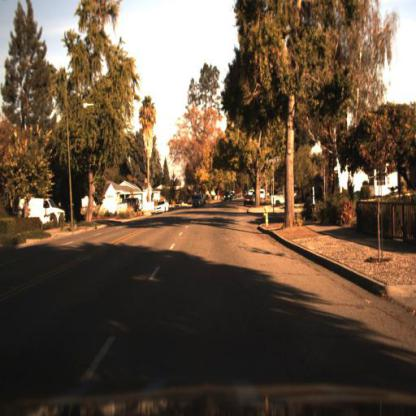car: (14, 189, 67, 233), (153, 197, 171, 218), (191, 191, 206, 213), (125, 196, 141, 215), (223, 190, 235, 205), (244, 194, 254, 207)
